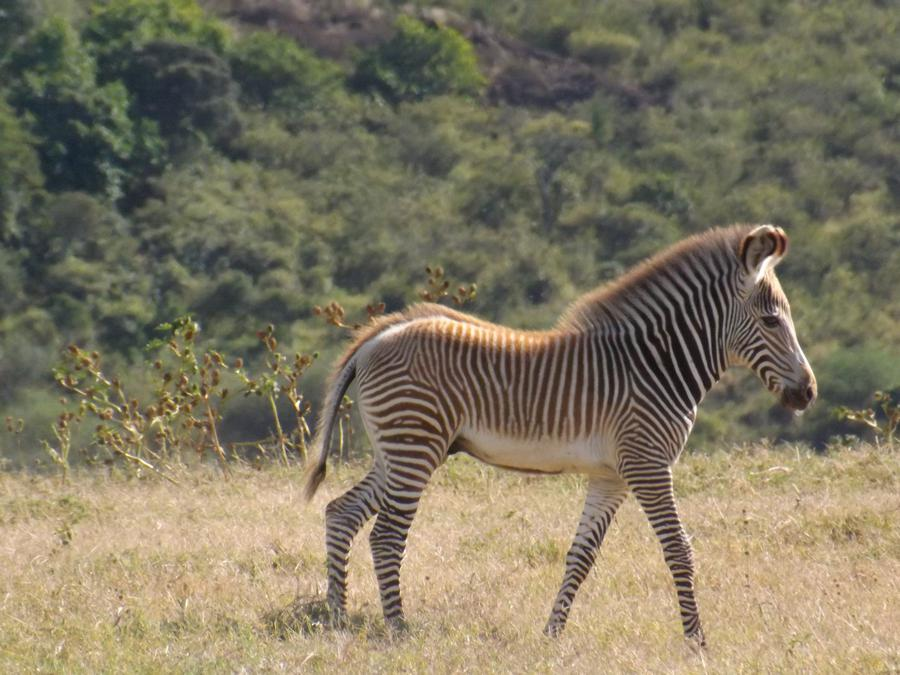zebra_grevys: (320, 289, 680, 476)
